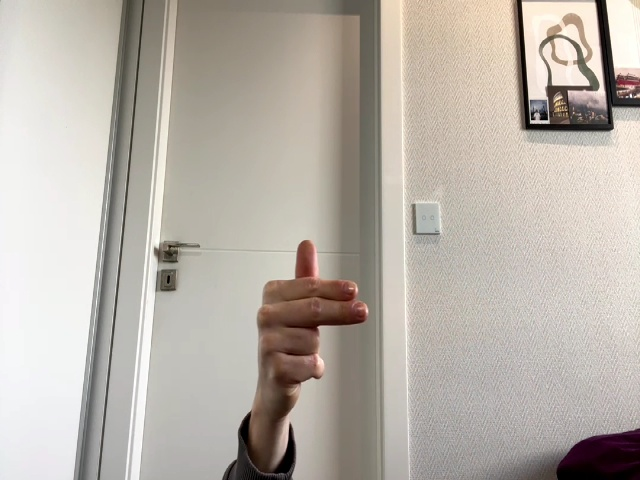N: (257, 240, 368, 404)
